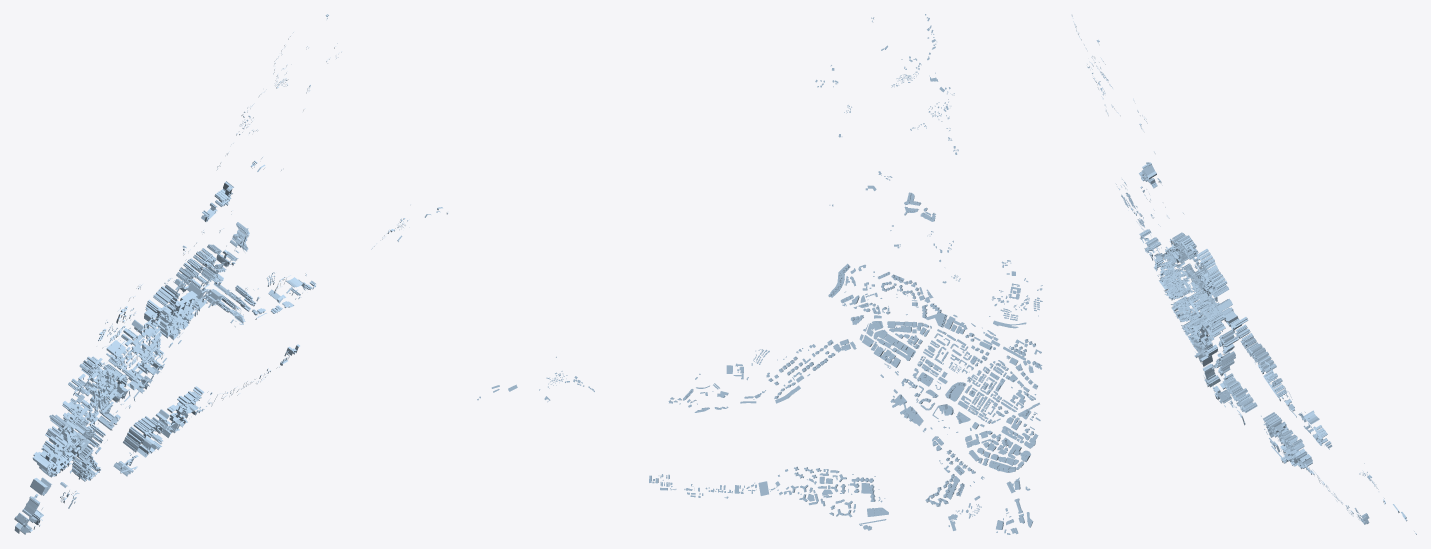
3 renders of one model, left to right at view 1: azimuth 30°, elevation 25°; view 2: azimuth 150°, elevation 25°; view 3: azimuth 270°, elevation 25°, orthographic. The views are drawn at different scales.
Parts seen in each view (by area): view 1: geometry_0; view 2: geometry_0; view 3: geometry_0.
Part boxes in pixels (x1=…): geometry_0: x1=14, y1=14, x2=448, y2=534; geometry_0: x1=477, y1=14, x2=1042, y2=534; geometry_0: x1=1071, y1=14, x2=1416, y2=534.
Size of the model in its own units: 4682 by 4228 by 2816.
